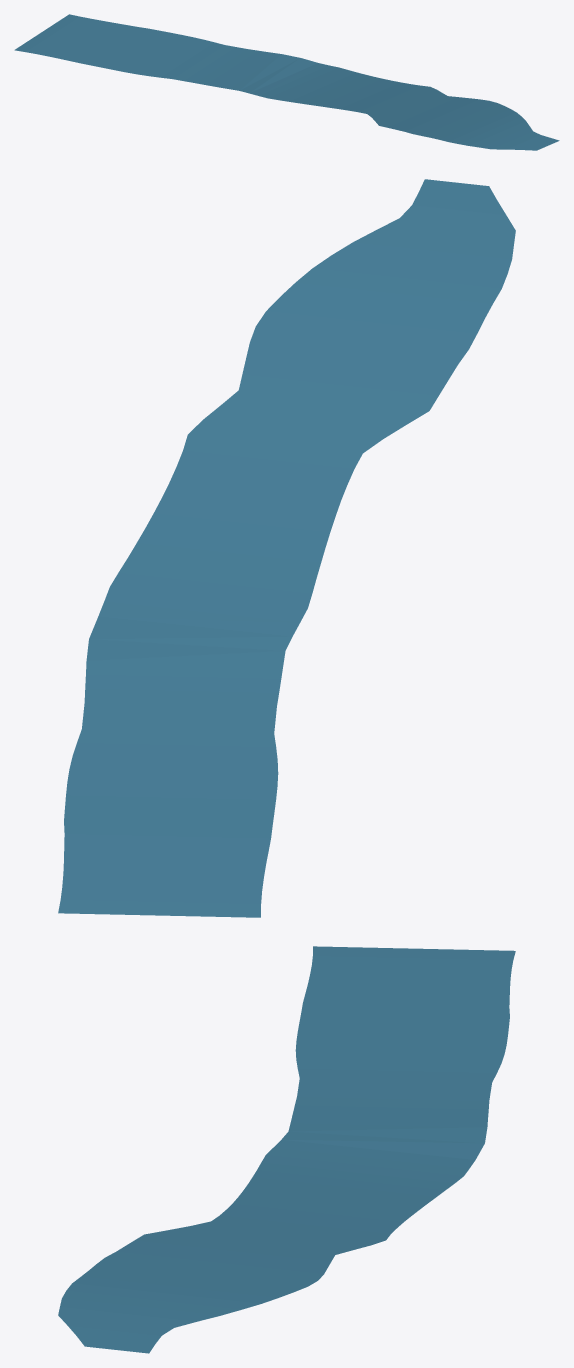
Rendered from objekty.glb.
The picture shows the model from 3 angles, top to bottom: view 1: azimuth 30°, elevation 25°; view 2: azimuth 150°, elevation 25°; view 3: azimuth 330°, elevation 25°; orthographic projection. The views are drawn at different scales.
Visible parts, largest first — view 1: Voda_10_02; view 2: Voda_10_02; view 3: Voda_10_02.
Boxes of the visible parts, x1,y1,x2,y2 form: Voda_10_02: (14,14,559,150); Voda_10_02: (58,179,515,917); Voda_10_02: (58,946,515,1353).
Bounding box in the file's own units: 20.78 × 6.84 × 51.1.
